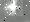person: (6, 1, 24, 17)
